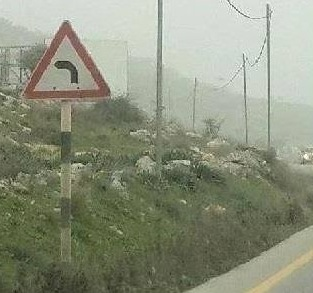Turn left: (22, 15, 115, 105)
